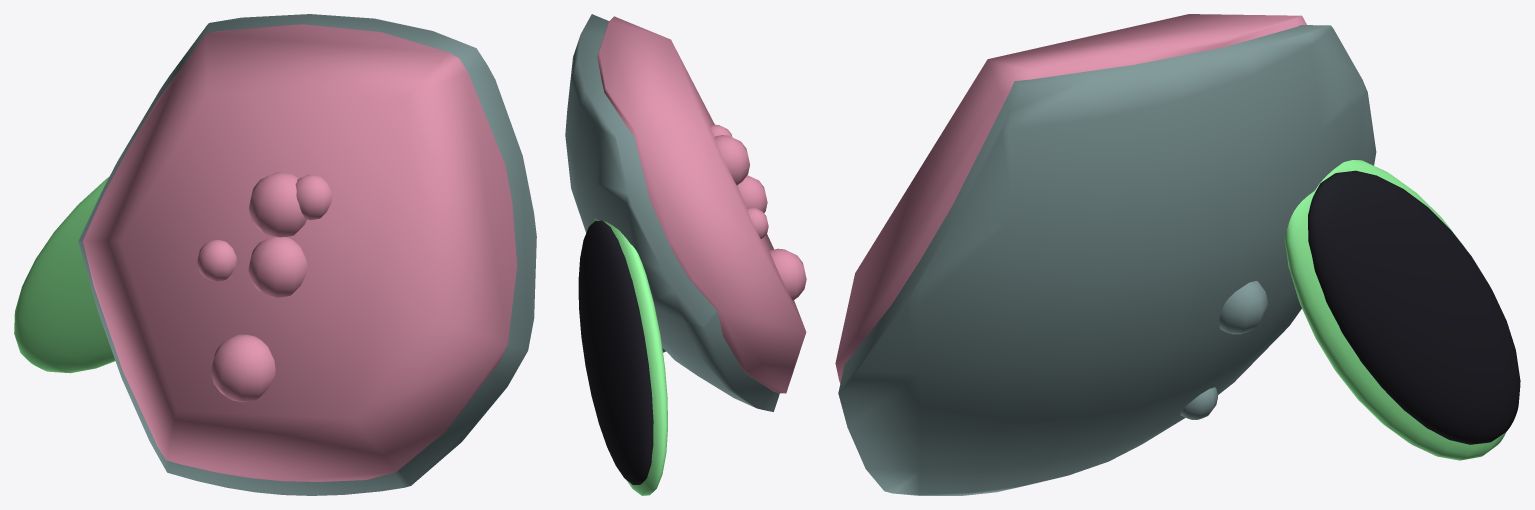
File: chunk4.glb
3 renders of one model, left to right at view 1: azimuth 30°, elevation 25°; view 2: azimuth 150°, elevation 25°; view 3: azimuth 270°, elevation 25°, orthographic. The views are drawn at different scales.
Parts seen in each view (by area): view 1: flesh, skin, glow; view 2: flesh, skin, eye, glow; view 3: skin, eye, flesh, glow.
Boxes of the visible parts, bbox=[...] form: flesh: bbox=[83, 24, 517, 481]; skin: bbox=[78, 14, 536, 495]; glow: bbox=[14, 177, 115, 373]; flesh: bbox=[597, 16, 806, 393]; skin: bbox=[565, 14, 779, 411]; eye: bbox=[578, 220, 653, 484]; glow: bbox=[591, 218, 667, 495]; skin: bbox=[838, 25, 1376, 495]; eye: bbox=[1308, 170, 1520, 444]; flesh: bbox=[835, 14, 1306, 383]; glow: bbox=[1284, 160, 1506, 460].
Bounding box in the file's own units: 1.05 × 1.32 × 1.57.
